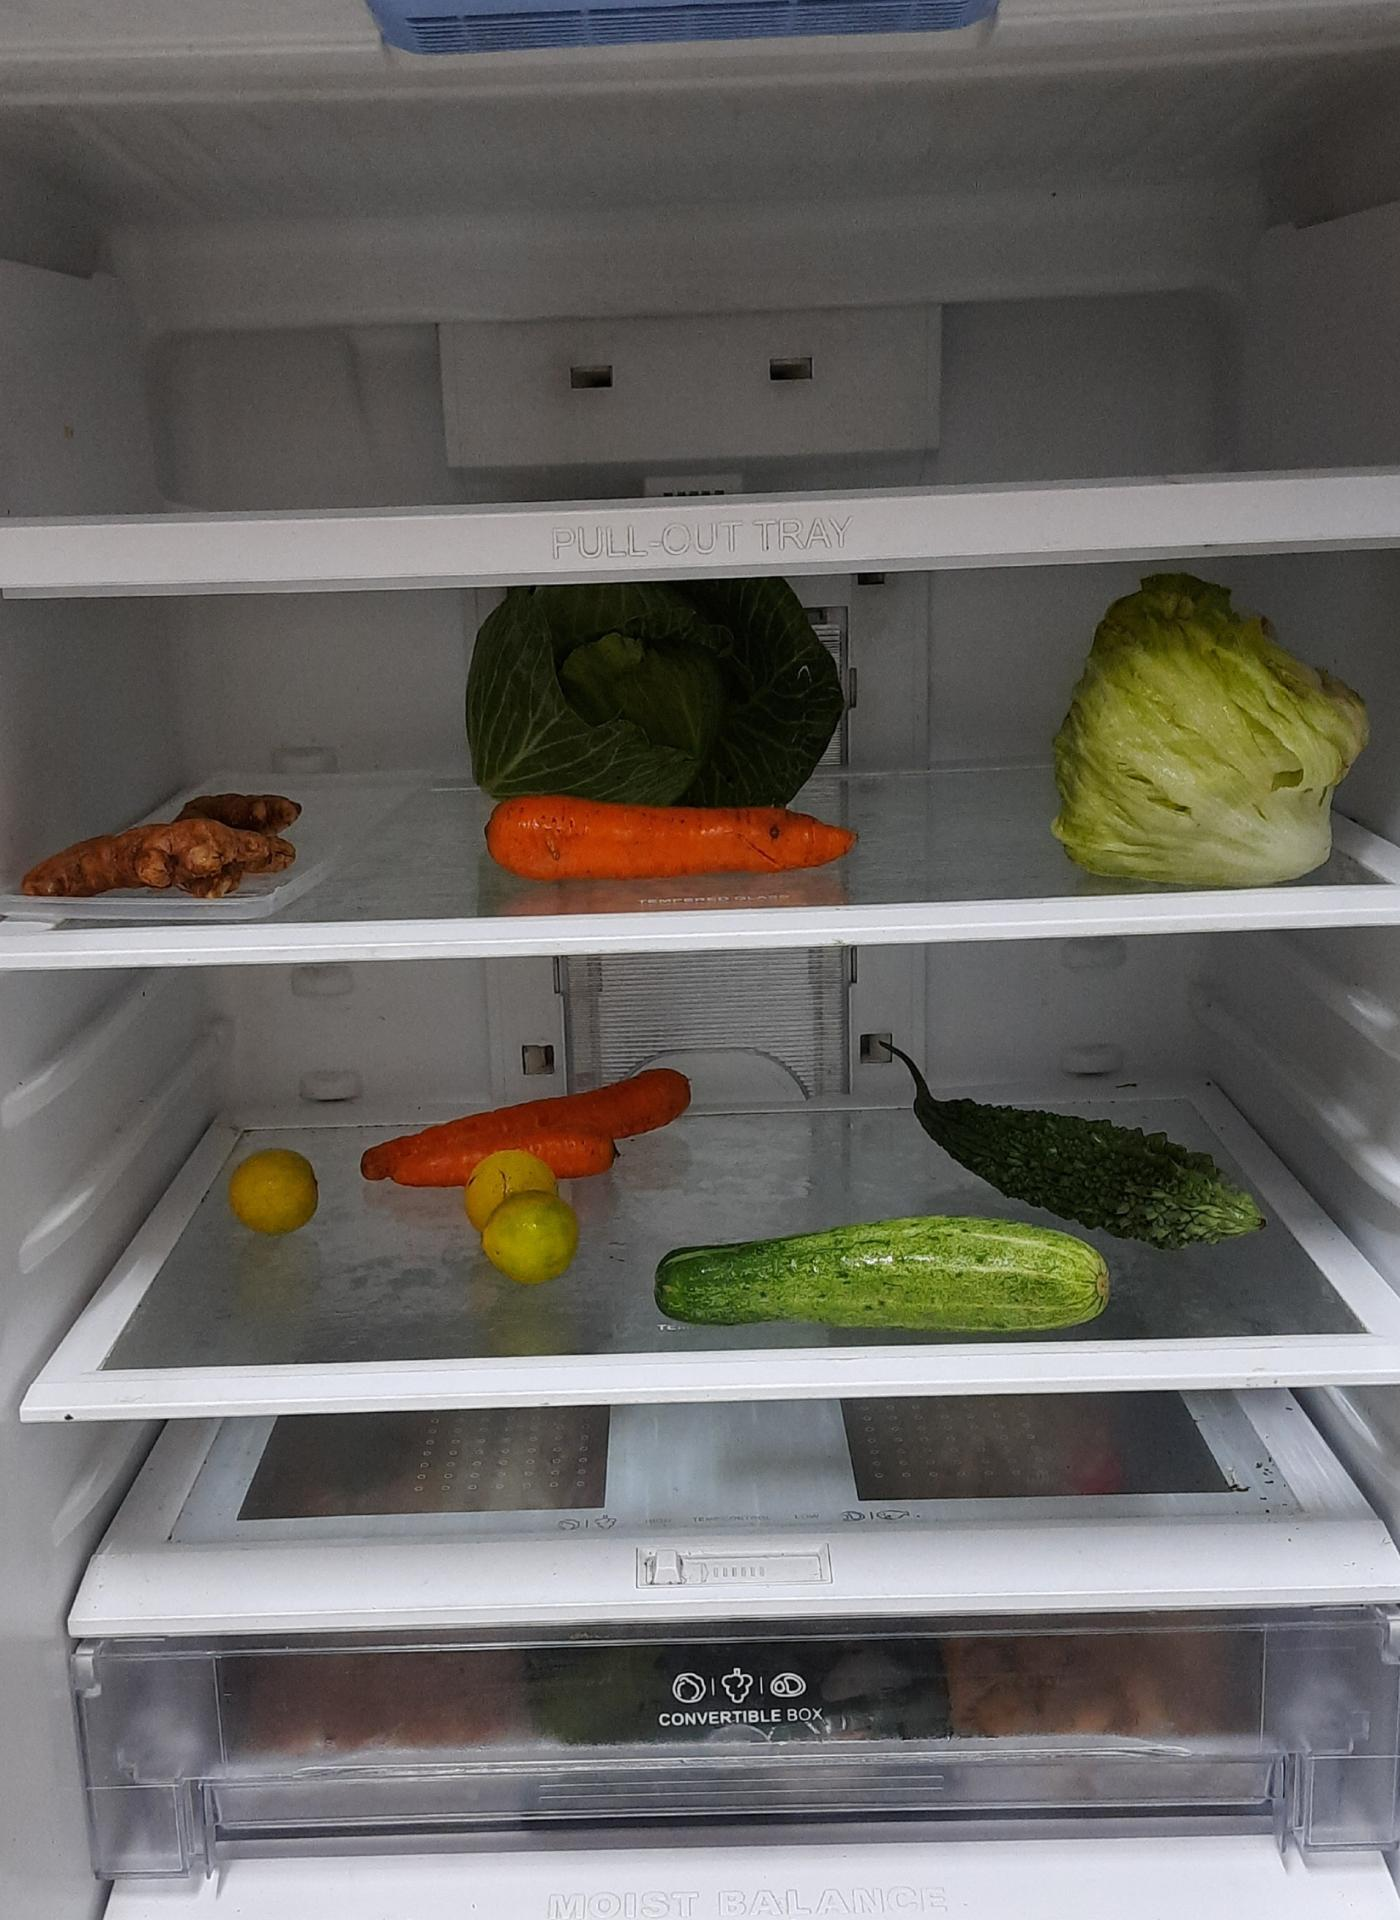bitter gourd: (908, 1087, 1261, 1245)
cabbage: (467, 577, 851, 803)
carrots: (361, 1073, 690, 1187), (483, 795, 862, 882)
cucumber: (656, 1219, 1109, 1334)
ginger: (19, 790, 306, 900)
lemon: (461, 1152, 577, 1288), (230, 1143, 324, 1236)
lettuce: (1059, 587, 1379, 897)
